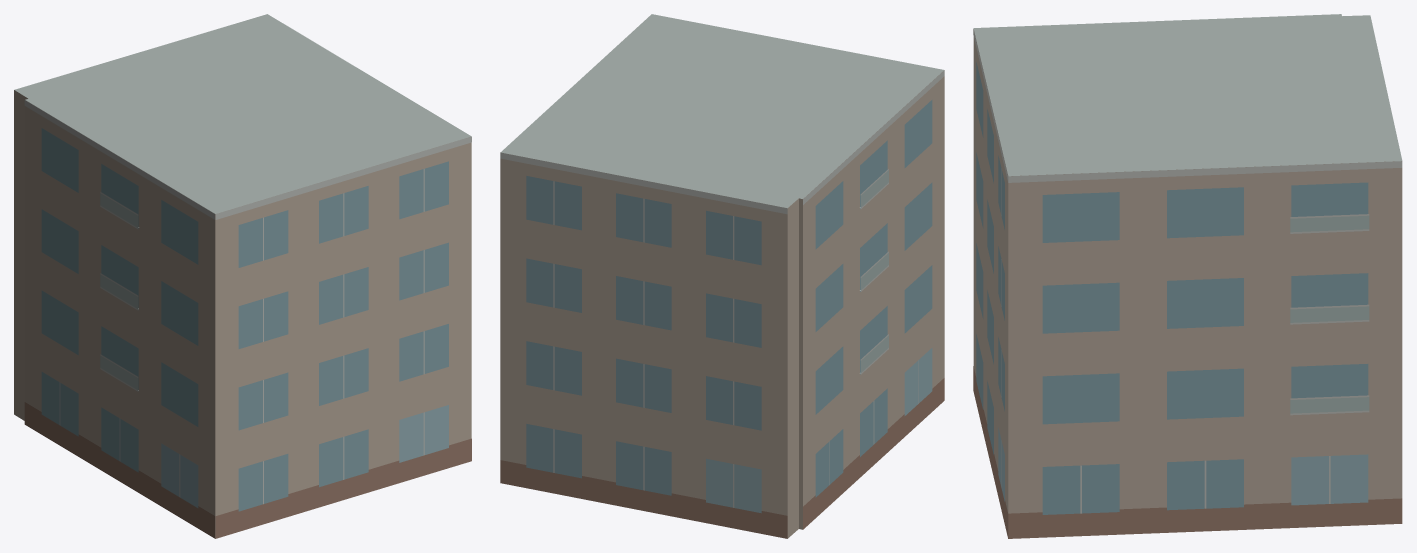
Rendered from survey-upis-32985096.glb.
The picture shows the model from 3 angles, left to right: view 1: azimuth 30°, elevation 25°; view 2: azimuth 150°, elevation 25°; view 3: azimuth 270°, elevation 25°; orthographic projection. The views are drawn at different scales.
Visible parts, largest first — view 1: survey-upis-32985096.tmp; view 2: survey-upis-32985096.tmp; view 3: survey-upis-32985096.tmp.
Boxes of the visible parts, box(x1,y1,x2,y2) form: survey-upis-32985096.tmp: box(14, 14, 471, 538); survey-upis-32985096.tmp: box(500, 14, 944, 538); survey-upis-32985096.tmp: box(973, 14, 1402, 538).
Size of the model in its own units: 12.65 by 13.18 by 14.14.
